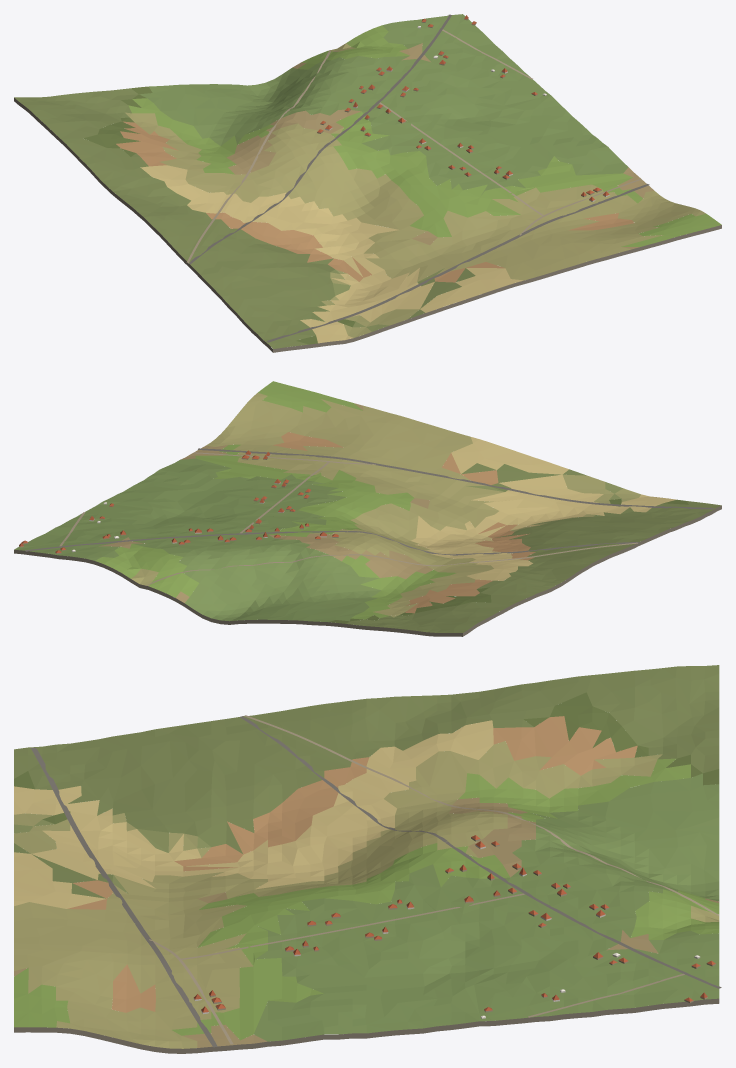
The model's file is parca_+10_-7-uzak.glb.
3 renders of one model, top to bottom at view 1: azimuth 30°, elevation 25°; view 2: azimuth 150°, elevation 25°; view 3: azimuth 270°, elevation 25°, orthographic. The views are drawn at different scales.
Visible parts, largest first — view 1: parca_+10_-7_arazi_uzak, parca_+10_-7_yollar_uzak, parca_+10_-7_yapilar_uzak; view 2: parca_+10_-7_arazi_uzak, parca_+10_-7_yollar_uzak, parca_+10_-7_yapilar_uzak; view 3: parca_+10_-7_arazi_uzak, parca_+10_-7_yollar_uzak, parca_+10_-7_yapilar_uzak.
Boxes of the visible parts, box(x1,y1,x2,y2) form: parca_+10_-7_arazi_uzak: box(14, 14, 721, 352); parca_+10_-7_yollar_uzak: box(186, 14, 649, 342); parca_+10_-7_yapilar_uzak: box(317, 15, 609, 201); parca_+10_-7_arazi_uzak: box(14, 381, 721, 636); parca_+10_-7_yollar_uzak: box(25, 448, 713, 585); parca_+10_-7_yapilar_uzak: box(19, 450, 338, 553); parca_+10_-7_arazi_uzak: box(14, 665, 719, 1053); parca_+10_-7_yollar_uzak: box(31, 715, 721, 1047); parca_+10_-7_yapilar_uzak: box(193, 835, 715, 1018).
Size of the model in its own units: 1010 by 158 by 1004.
